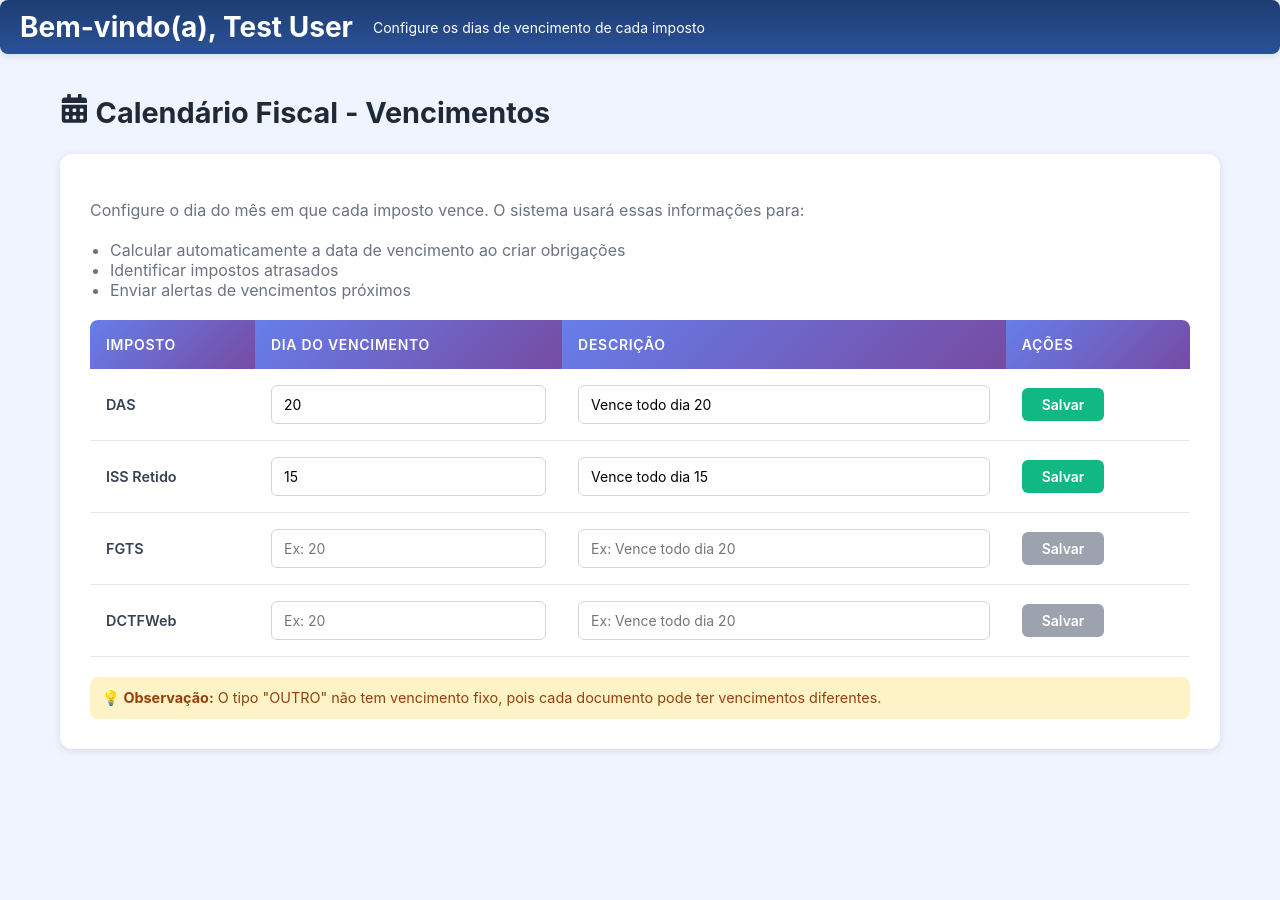
Scenario: TaxCalendarManagement.jsx - 100% Coverage › deve validar dia inválido (> 31)
Replace the text in the number field showing "20" next to "DAS" with "32" at (409, 404), box [271,385,546,424]
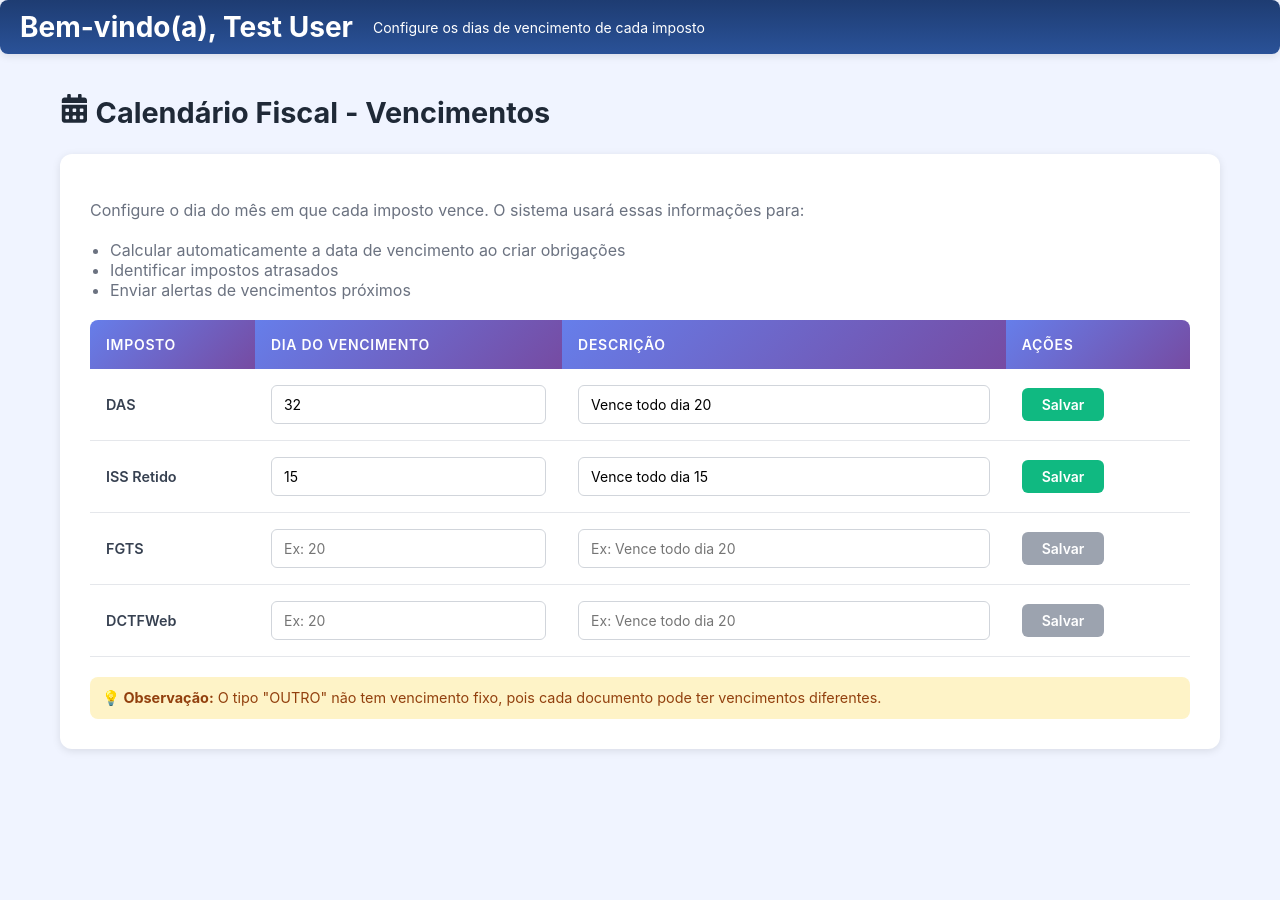
Click the button "Salvar" in the row of "DAS" at (1063, 404), box [1022,388,1104,421]
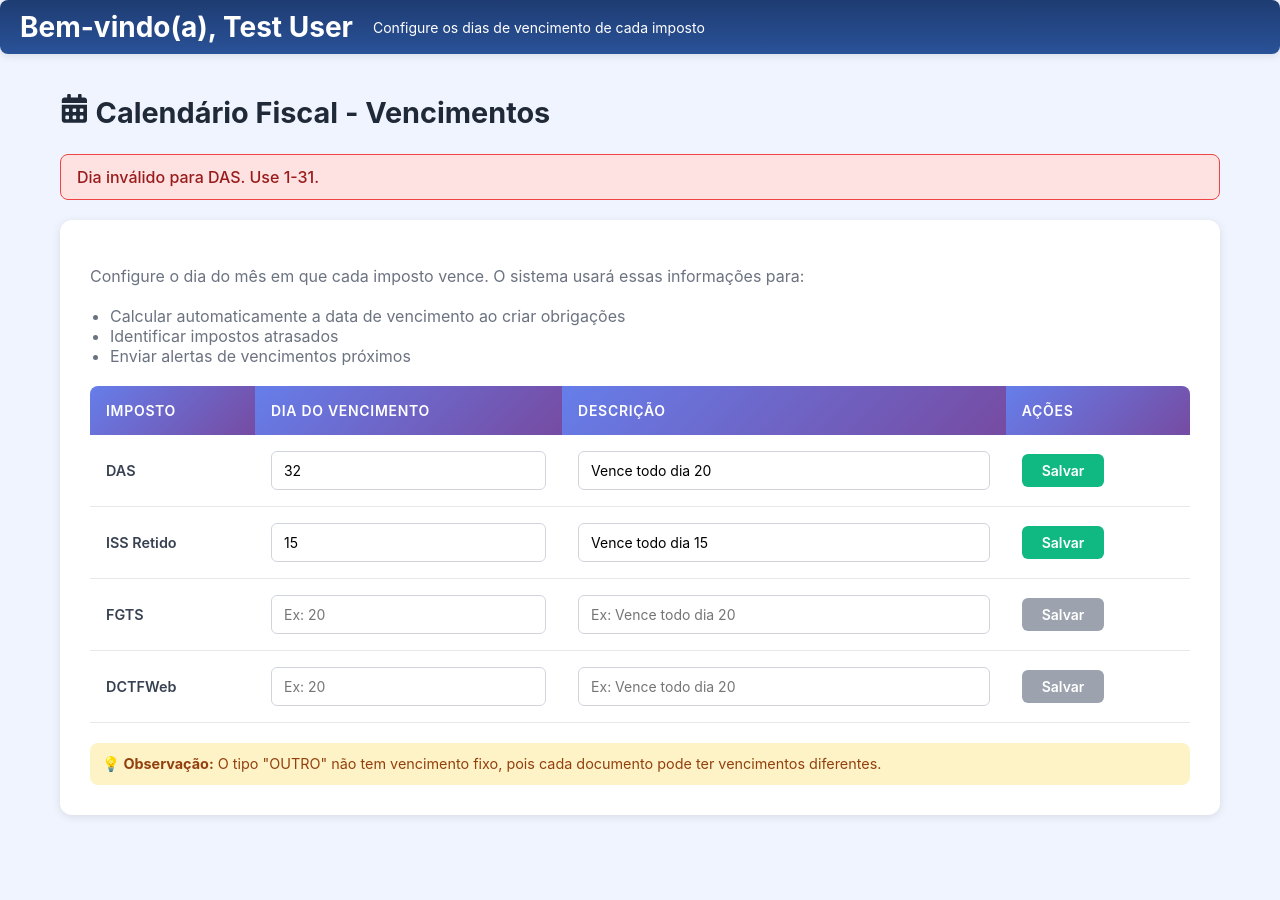
Expected: the text "Dia inválido para DAS. Use 1-31." is shown, [60,154,1220,200]
